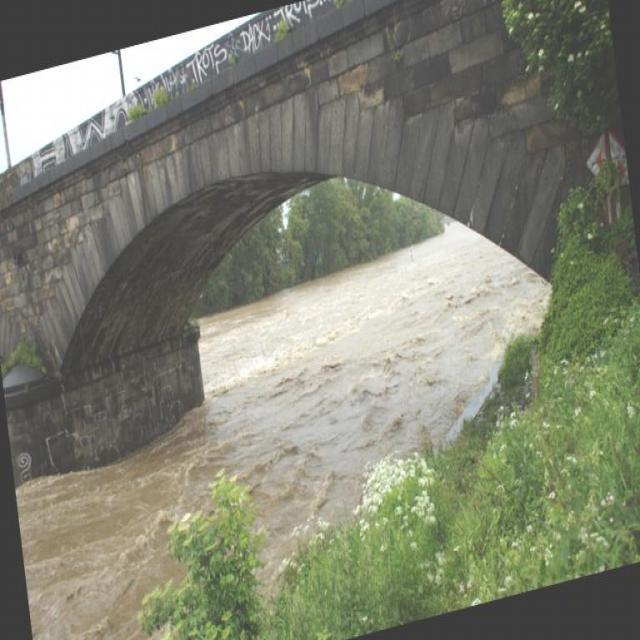flood: (0, 200, 581, 639)
